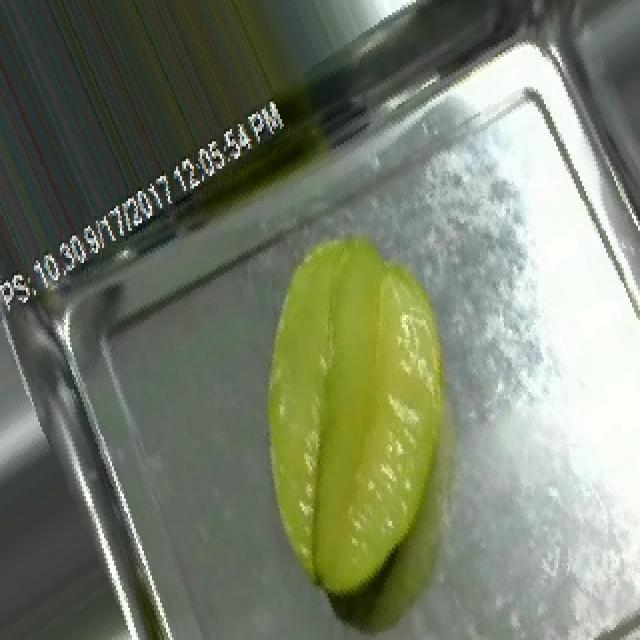fruit: (186, 198, 534, 593)
